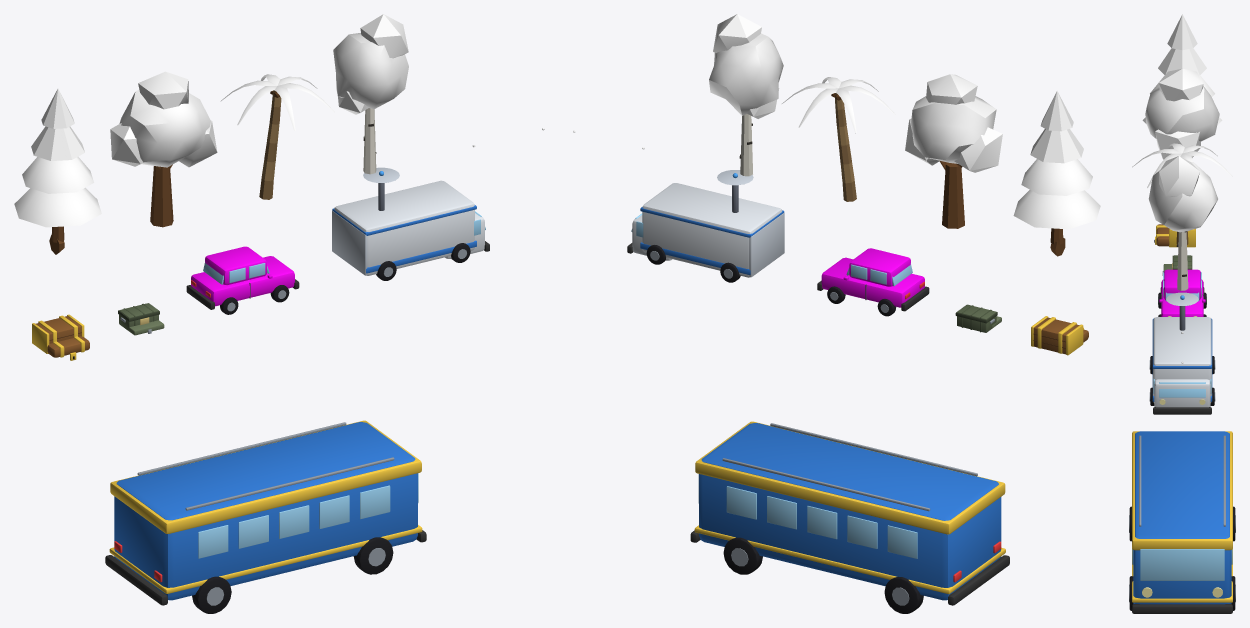
The model's file is decor.glb.
3 views of the same model, side by side, from view 1: azimuth 30°, elevation 25°; view 2: azimuth 150°, elevation 25°; view 3: azimuth 270°, elevation 25° (orthographic). The views are drawn at different scales.
Parts seen in each view (by area): view 1: D_bus, D_van, T1, T0, T3, D_car, T2, D_chestB, D_ammoB; view 2: D_bus, D_van, T1, T0, T3, D_car, T2, D_chestB, D_ammoB; view 3: D_bus, D_van, T1, T3, T0, D_car, T2, D_chestB, D_chestL, D_ammoB.
Boxes of the visible parts, x1=… form: D_bus: x1=105, y1=420, x2=426, y2=613; D_van: x1=332, y1=167, x2=489, y2=280; T1: x1=110, y1=71, x2=217, y2=227; T0: x1=14, y1=88, x2=101, y2=254; T3: x1=333, y1=14, x2=408, y2=174; D_car: x1=186, y1=246, x2=299, y2=314; T2: x1=220, y1=74, x2=334, y2=199; D_chestB: x1=32, y1=314, x2=84, y2=353; D_ammoB: x1=118, y1=303, x2=159, y2=330; D_bus: x1=690, y1=421, x2=1009, y2=613; D_van: x1=627, y1=170, x2=784, y2=282; T1: x1=905, y1=74, x2=1002, y2=228; T0: x1=1013, y1=91, x2=1100, y2=256; T3: x1=709, y1=14, x2=783, y2=176; D_car: x1=817, y1=248, x2=929, y2=316; T2: x1=782, y1=77, x2=895, y2=201; D_chestB: x1=1031, y1=316, x2=1083, y2=355; D_ammoB: x1=955, y1=304, x2=997, y2=332; D_bus: x1=1129, y1=431, x2=1235, y2=613; D_van: x1=1149, y1=292, x2=1215, y2=414; T1: x1=1145, y1=68, x2=1219, y2=159; T3: x1=1148, y1=156, x2=1217, y2=290; T0: x1=1142, y1=14, x2=1222, y2=124; D_car: x1=1158, y1=269, x2=1206, y2=316; T2: x1=1132, y1=143, x2=1232, y2=244; D_chestB: x1=1169, y1=228, x2=1195, y2=247; D_chestL: x1=1154, y1=224, x2=1169, y2=246; D_ammoB: x1=1172, y1=255, x2=1192, y2=269.
Size of the model in its own units: 455 by 443 by 91.
